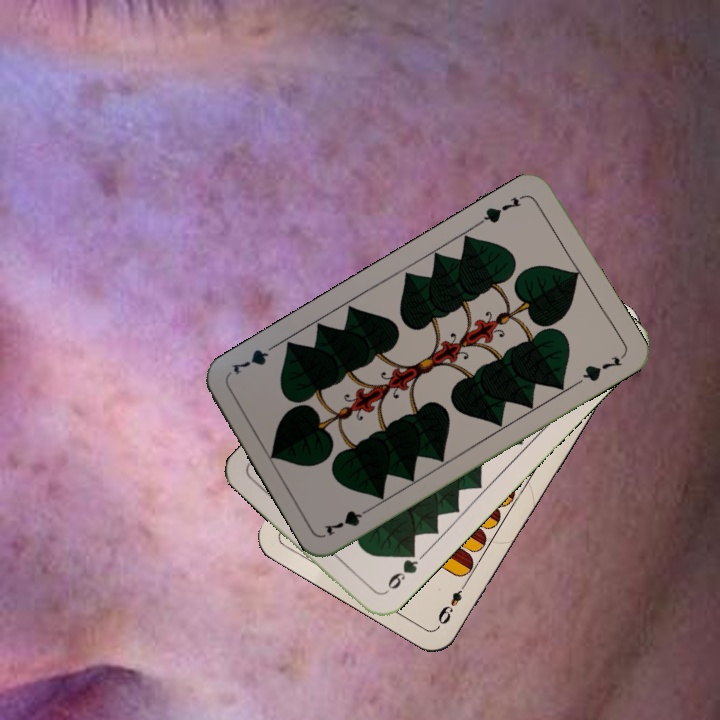E9: (433, 576, 471, 629)
G7: (321, 502, 377, 539), (475, 191, 528, 228)
G9: (378, 545, 421, 597)
